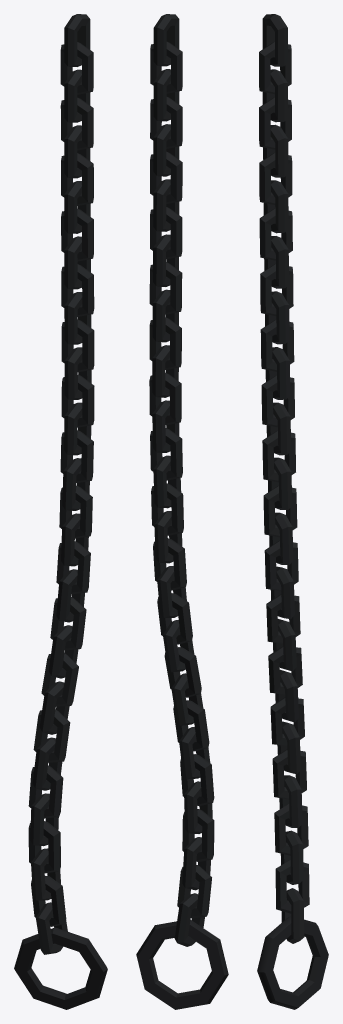
The model's file is pit_chains.gltf.
The picture shows the model from 3 angles, left to right: view 1: azimuth 30°, elevation 25°; view 2: azimuth 210°, elevation 25°; view 3: azimuth 270°, elevation 25°; orthographic projection.
Parts seen in each view (by area): view 1: pit_chains; view 2: pit_chains; view 3: pit_chains.
Part boxes in pixels (x1=…): pit_chains: x1=14, y1=14, x2=107, y2=1009; pit_chains: x1=136, y1=14, x2=228, y2=1009; pit_chains: x1=257, y1=14, x2=328, y2=1009.
Size of the model in its own units: 3.55 by 53.8 by 3.52.
1 material, 1 textured.
